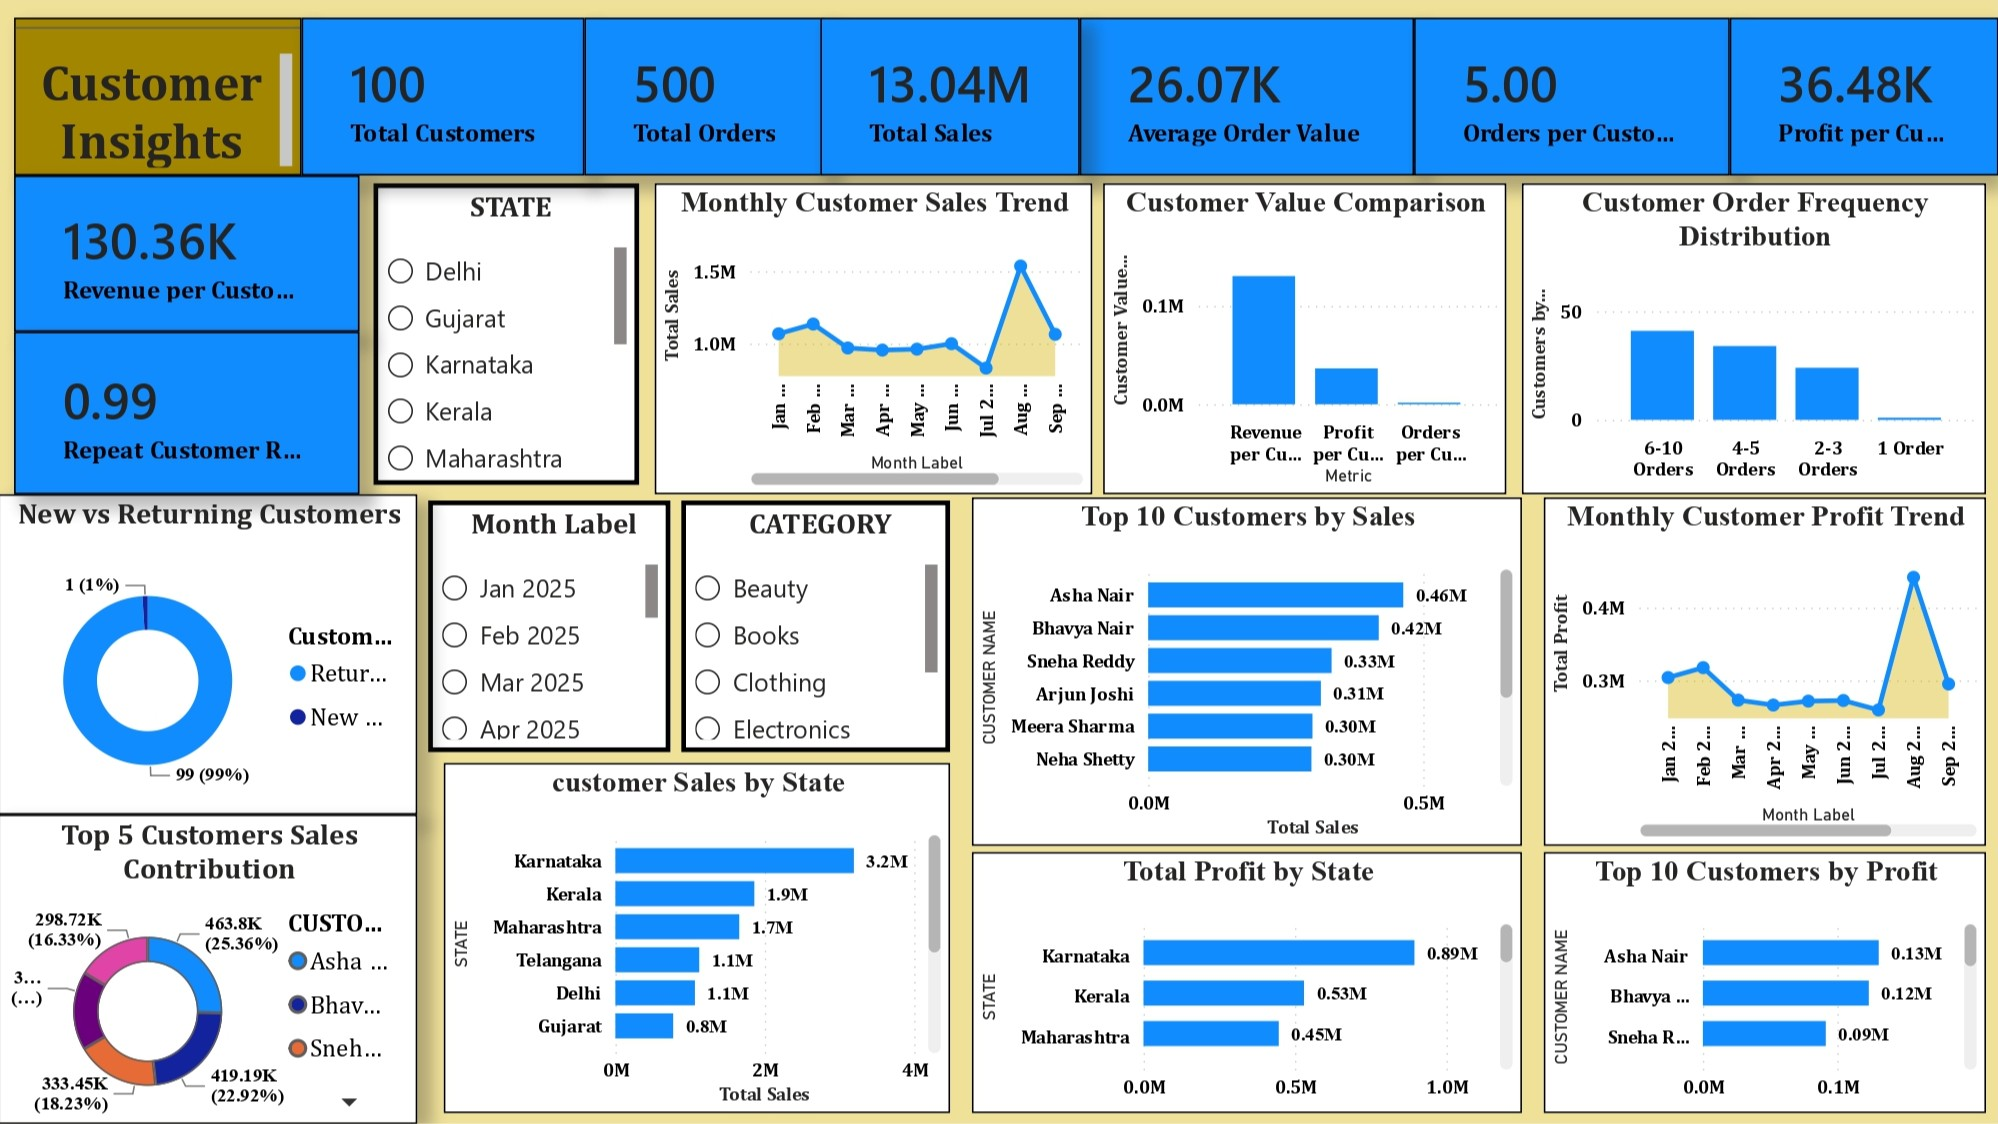

Layout of this report page (visuals, bound fields, positions):
{"tool":"powerbi","page":{"name":"Customer Insights","canvas":[1280,720],"ordinal":2},"visuals":[{"type":"textbox","box":[10,12,184,101],"z":0},{"type":"listSlicer","title":"Month Label","fields":{"Values":["orders.Month Label"]},"box":[275,321,155,161],"z":1000},{"type":"listSlicer","fields":{"Values":["customers.STATE"]},"box":[240.1,118,170.2,193.5],"z":2000},{"type":"listSlicer","fields":{"Values":["products.CATEGORY"]},"box":[437,321,172,161],"z":3000},{"type":"cardVisual","fields":{"Data":["customers.Total Customers"]},"box":[194,12,181,101],"z":4000},{"type":"cardVisual","fields":{"Data":["customers.Total Orders"]},"box":[375,12,154,101],"z":5000},{"type":"cardVisual","fields":{"Data":["customers.Average Order Value"]},"box":[692,12,214,101],"z":6000},{"type":"cardVisual","fields":{"Data":["customers.Total Sales"]},"box":[526,12,166,101],"z":7000},{"type":"donutChart","title":"New vs Returning Customers","fields":{"Category":["Customer Type.Customer Type"],"Y":["customers.Customer Type Count"]},"box":[0,317,268,205],"z":8000},{"type":"clusteredBarChart","title":"Top 10 Customers by Sales","fields":{"Category":["customers.CUSTOMER NAME"],"Y":["customers.Total Sales"]},"box":[623,319,352,223],"z":9000},{"type":"donutChart","title":"Top 5 Customers Sales Contribution","fields":{"Category":["customers.CUSTOMER NAME"],"Y":["customers.Total Sales"]},"box":[0,522,268,198],"z":10000},{"type":"clusteredBarChart","title":"customer Sales by State","fields":{"Category":["customers.STATE"],"Y":["customers.Total Sales"]},"box":[285,489,324,224],"z":11000},{"type":"cardVisual","fields":{"Data":["Customer Type.Orders per Customer"]},"box":[906,12,202,101],"z":12000},{"type":"cardVisual","fields":{"Data":["Customer Type.Revenue per Customer"]},"box":[10,113,220.9,100.2],"z":13000},{"type":"cardVisual","fields":{"Data":["Customer Type.Profit per Customer"]},"box":[1108,12,172,101],"z":14000},{"type":"clusteredColumnChart","title":"Customer Value Comparison","fields":{"Category":["Customer Value Metrics.Metric"],"Y":["Customer Value Metrics.Customer Value Metric"]},"box":[707,118,258,199],"z":15000},{"type":"clusteredColumnChart","title":"Customer Order Frequency Distribution","fields":{"Category":["Customer Order Frequency.Order Frequency Group"],"Y":["Customer Order Frequency.Customers by Frequency"]},"box":[975,118,297,199],"z":16000},{"type":"cardVisual","fields":{"Data":["Customer Order Frequency.Repeat Customer Rate %"]},"box":[9.6,212.7,220.9,104.3],"z":17000},{"type":"lineChart","title":"Monthly Customer Sales Trend","fields":{"Category":["orders.Month Label"],"Y":["customers.Total Sales"]},"box":[420,118,280,199],"z":18000},{"type":"lineChart","title":"Monthly Customer Profit Trend","fields":{"Category":["orders.Month Label"],"Y":["customers.Total Profit"]},"box":[989,319,283,223],"z":19000},{"type":"clusteredBarChart","title":"Top 10 Customers by Profit","fields":{"Category":["customers.CUSTOMER NAME"],"Y":["customers.Total Profit"]},"box":[989,546,283,167],"z":20000},{"type":"clusteredBarChart","title":"Total Profit by State","fields":{"Category":["customers.STATE"],"Y":["customers.Total Profit"]},"box":[623,546,352,167],"z":21000}]}

Visuals, with their boxes in screenshot pixels (x1, y1, x2, y2), scaled from the page's 1280x720 canvas onto the 1998x1124 screenshot:
textbox: Rect(16, 19, 303, 176)
"Month Label" listSlicer: Rect(429, 501, 671, 752)
listSlicer - customers.STATE: Rect(375, 184, 640, 486)
listSlicer - products.CATEGORY: Rect(682, 501, 951, 752)
cardVisual - customers.Total Customers: Rect(303, 19, 585, 176)
cardVisual - customers.Total Orders: Rect(585, 19, 826, 176)
cardVisual - customers.Average Order Value: Rect(1080, 19, 1414, 176)
cardVisual - customers.Total Sales: Rect(821, 19, 1080, 176)
"New vs Returning Customers" donutChart: Rect(0, 495, 418, 815)
"Top 10 Customers by Sales" clusteredBarChart: Rect(972, 498, 1522, 846)
"Top 5 Customers Sales Contribution" donutChart: Rect(0, 815, 418, 1123)
"customer Sales by State" clusteredBarChart: Rect(445, 763, 951, 1113)
cardVisual - Customer Type.Orders per Customer: Rect(1414, 19, 1730, 176)
cardVisual - Customer Type.Revenue per Customer: Rect(16, 176, 360, 333)
cardVisual - Customer Type.Profit per Customer: Rect(1730, 19, 1997, 176)
"Customer Value Comparison" clusteredColumnChart: Rect(1104, 184, 1506, 495)
"Customer Order Frequency Distribution" clusteredColumnChart: Rect(1522, 184, 1986, 495)
cardVisual - Customer Order Frequency.Repeat Customer Rate %: Rect(15, 332, 360, 495)
"Monthly Customer Sales Trend" lineChart: Rect(656, 184, 1093, 495)
"Monthly Customer Profit Trend" lineChart: Rect(1544, 498, 1986, 846)
"Top 10 Customers by Profit" clusteredBarChart: Rect(1544, 852, 1986, 1113)
"Total Profit by State" clusteredBarChart: Rect(972, 852, 1522, 1113)
